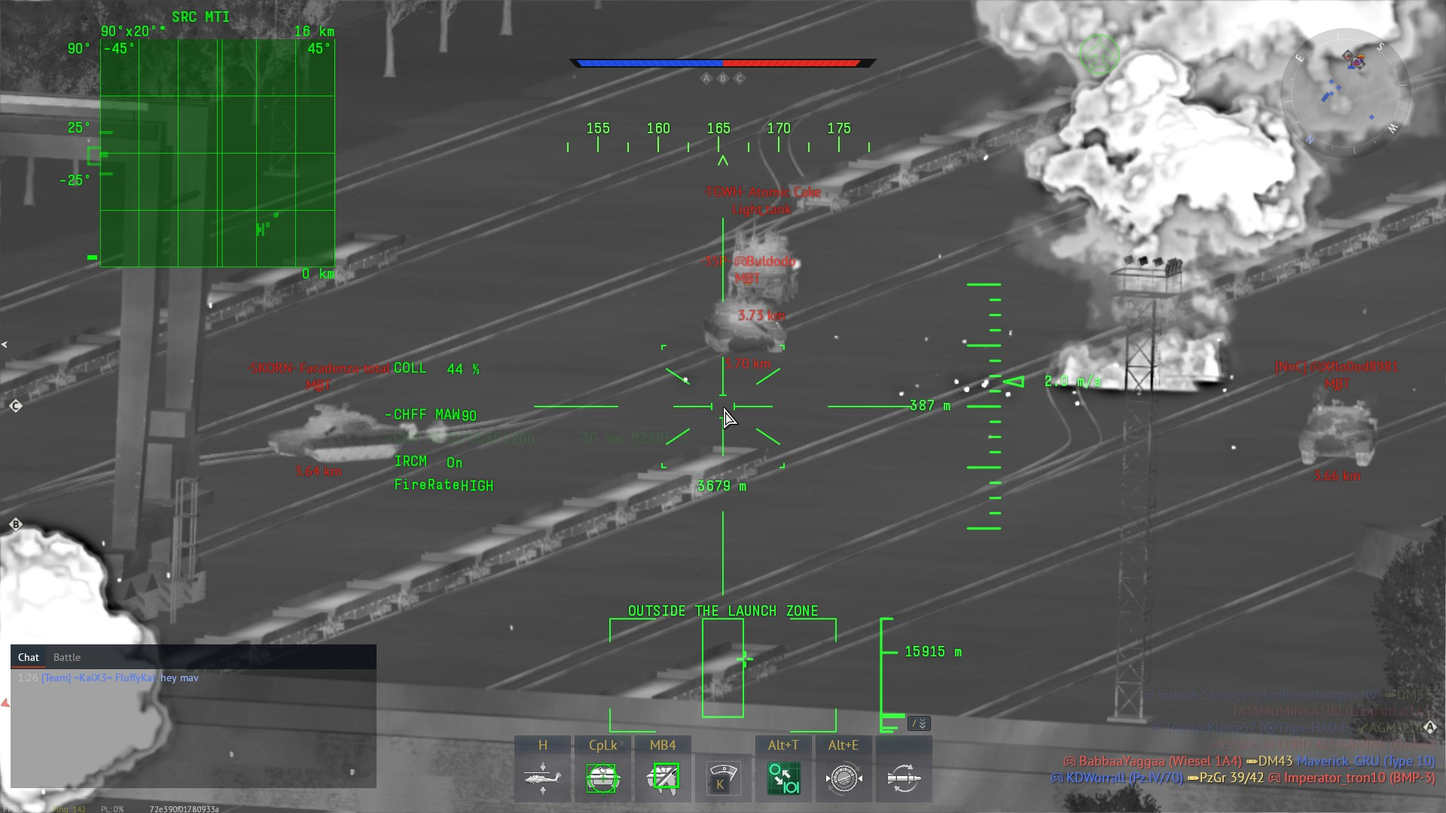t-80u: (267, 404, 408, 464), (697, 297, 787, 357)
